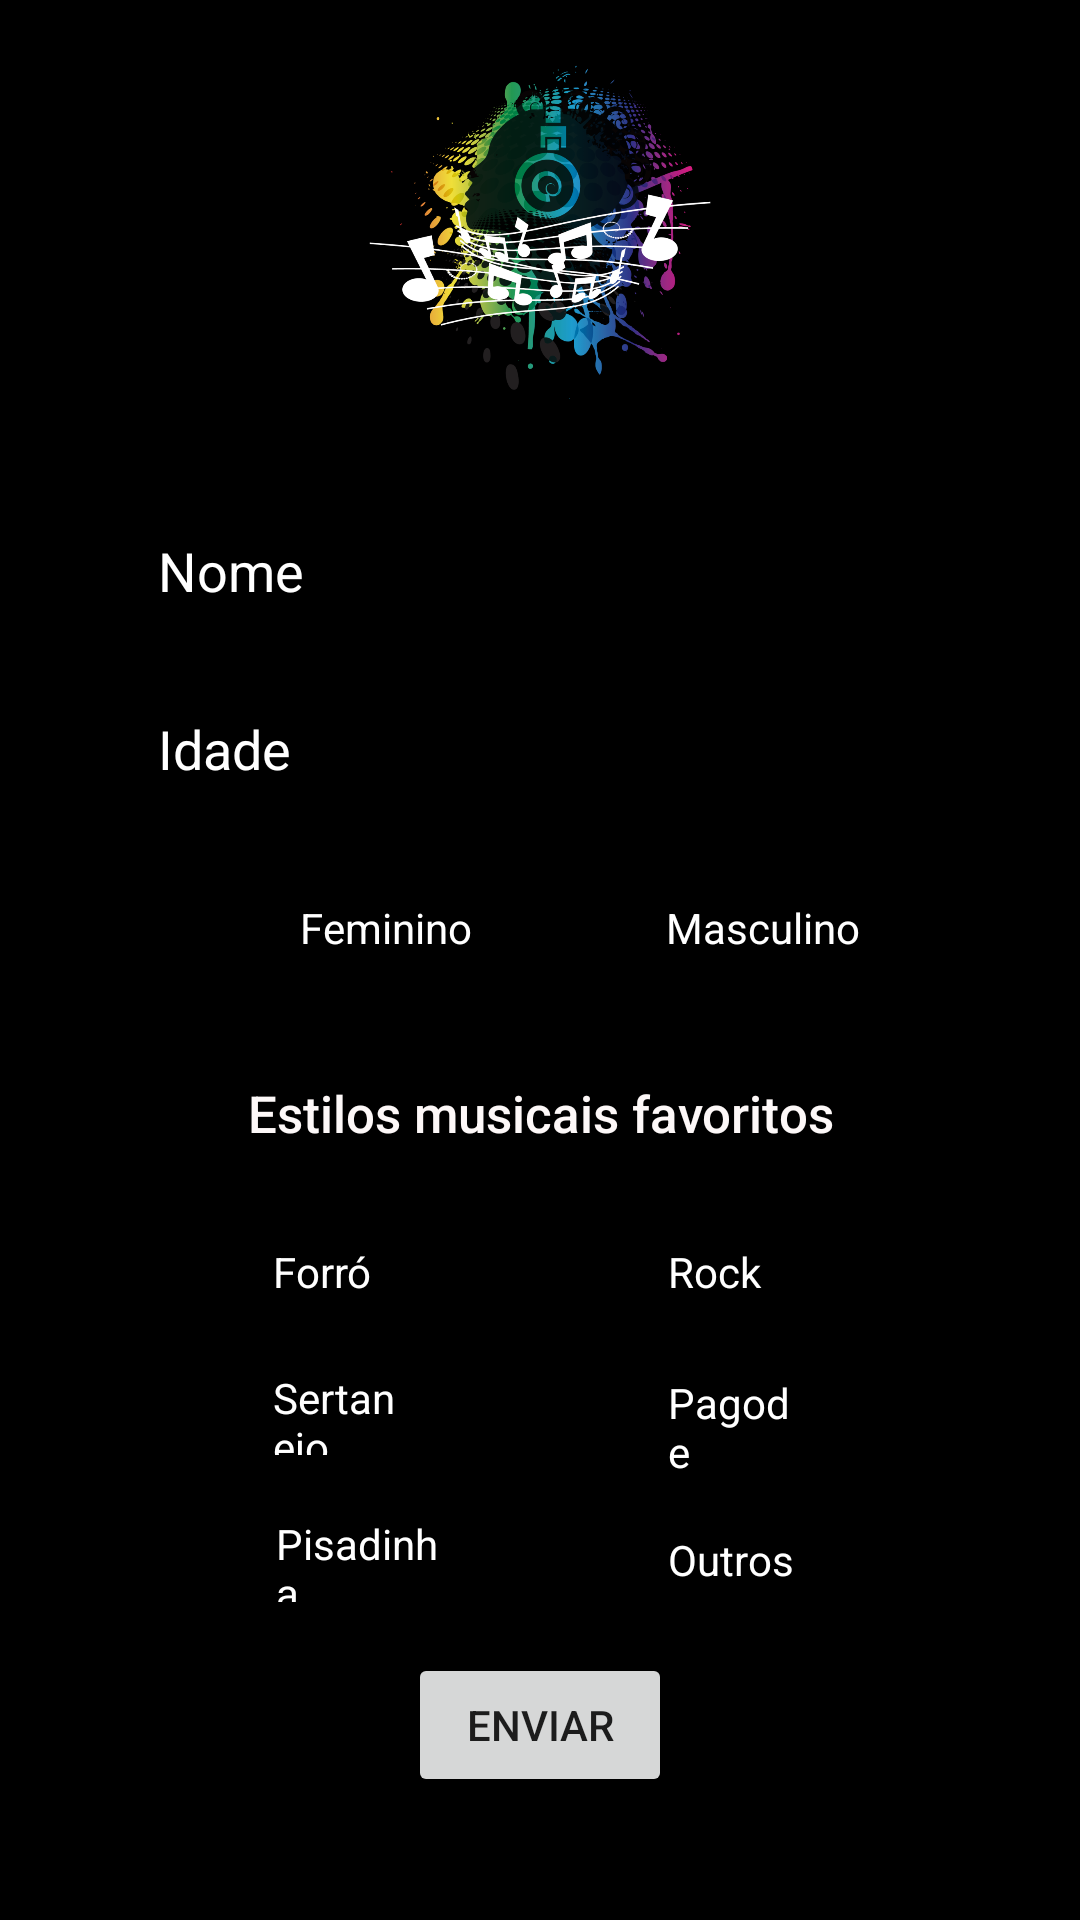

Locate icon controls on the screen. Image size 1080 × 1920, boxes as (x1, y1, x2, y2).
music: (369, 66, 711, 399)
